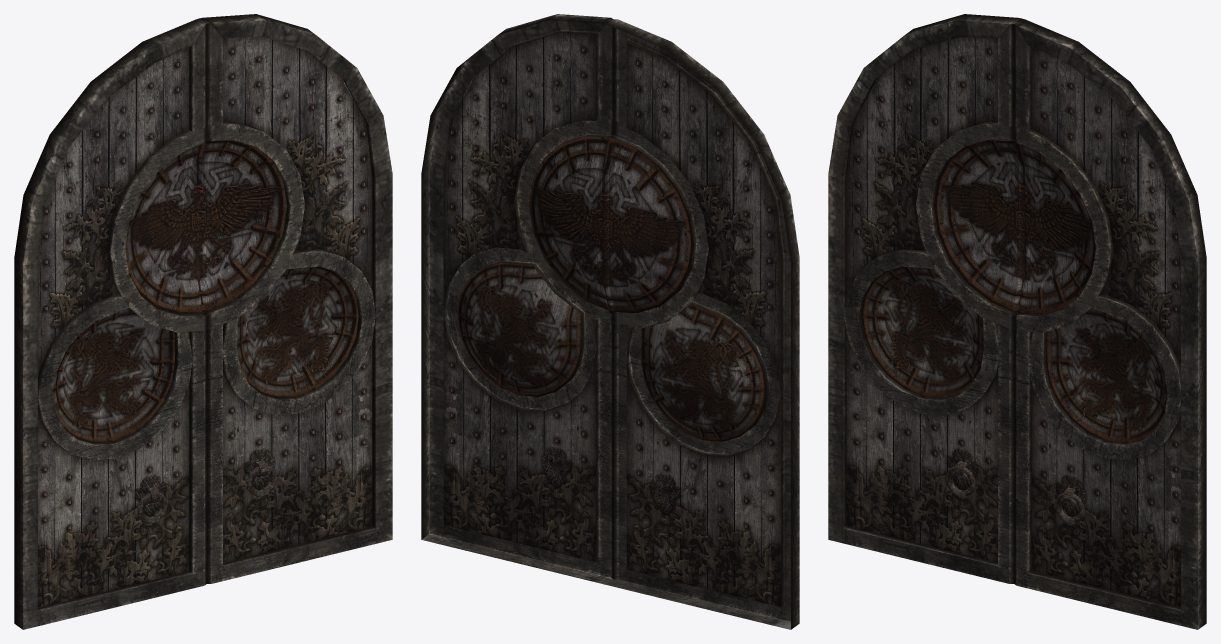
File: orb_room_door.dae
3 renders of one model, left to right at view 1: azimuth 30°, elevation 25°; view 2: azimuth 150°, elevation 25°; view 3: azimuth 330°, elevation 25°, orthographic.
Parts seen in each view (by area): view 1: polySurface1; view 2: polySurface1; view 3: polySurface1.
Part boxes in pixels (left/top/right/bottom): polySurface1: left=14, top=14, right=392, bottom=629; polySurface1: left=421, top=14, right=799, bottom=629; polySurface1: left=828, top=14, right=1206, bottom=629.
Bounding box in the file's own units: 3.8 × 5.5 × 0.2168.
